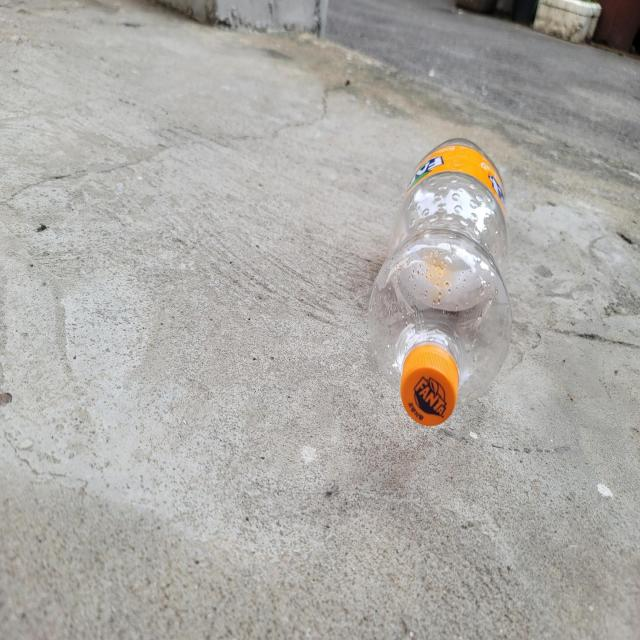plastic: (370, 138, 512, 426)
